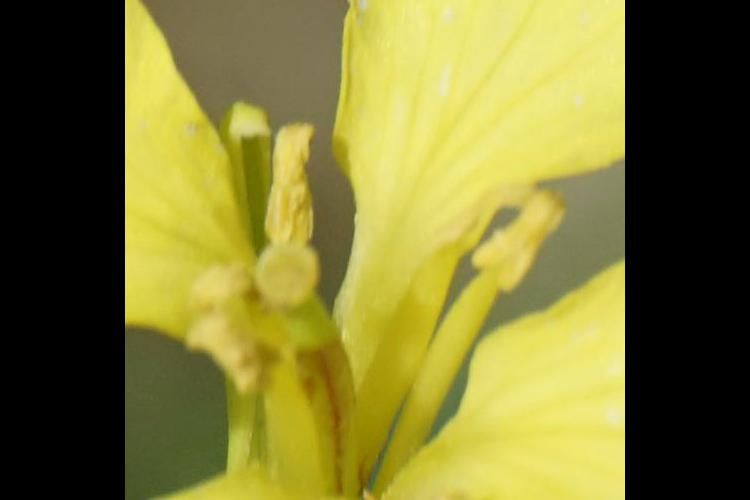yellow: (136, 1, 609, 500)
